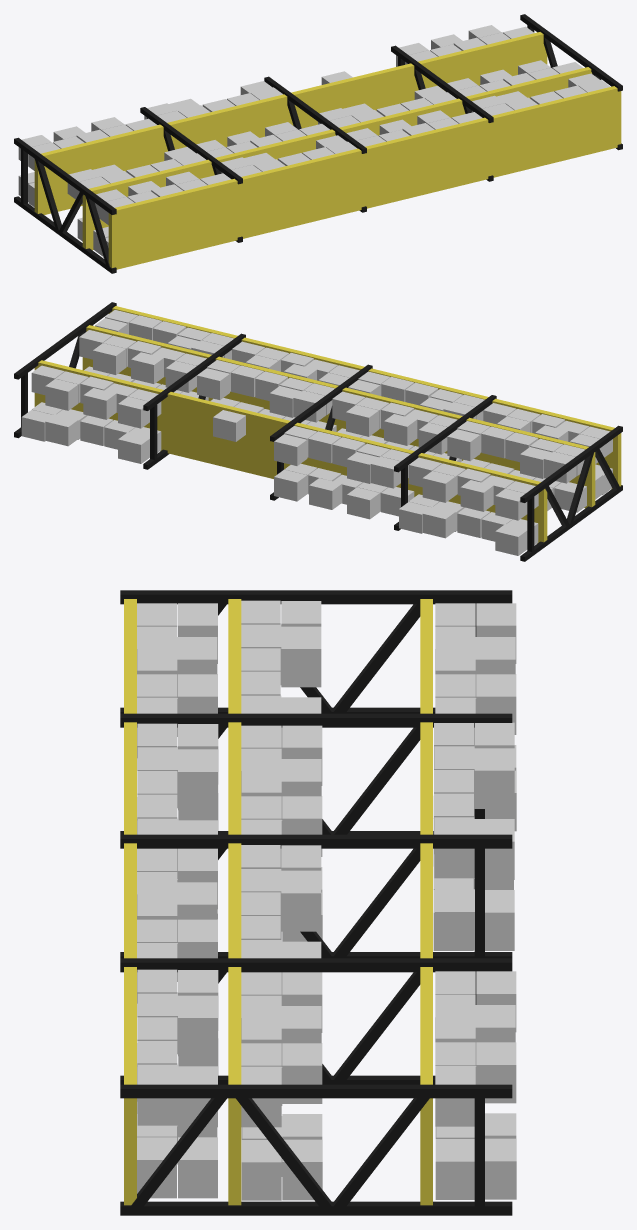
Rendered from shelf_big_movai.glb.
The picture shows the model from 3 angles, top to bottom: view 1: azimuth 30°, elevation 25°; view 2: azimuth 150°, elevation 25°; view 3: azimuth 270°, elevation 25°; orthographic projection. The views are drawn at different scales.
Visible parts, largest first — view 1: boards, box, metal_base; view 2: box, boards, metal_base, Cube; view 3: box, metal_base, boards, Cube.
Part boxes in pixels (box(x1,y1,x2,y2)): boards: box(34, 32, 621, 269); box: box(18, 25, 610, 257); metal_base: box(14, 14, 622, 273); box: box(21, 310, 612, 555); boards: box(34, 306, 621, 543); metal_base: box(14, 302, 622, 561); Cube: box(213, 410, 245, 441); box: box(137, 600, 516, 1200); metal_base: box(120, 590, 512, 1215); boards: box(124, 599, 432, 1205); Cube: box(435, 889, 474, 950).
Size of the model in its own units: 18.06 by 2.14 by 6.06.
